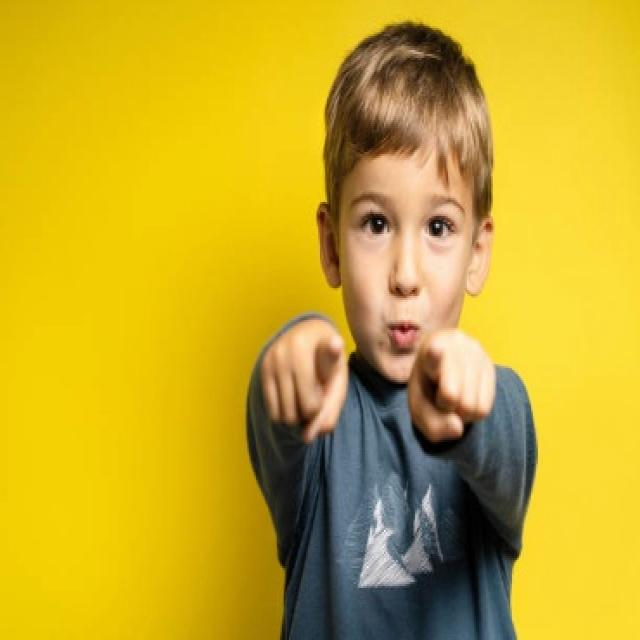child: (246, 15, 537, 640)
